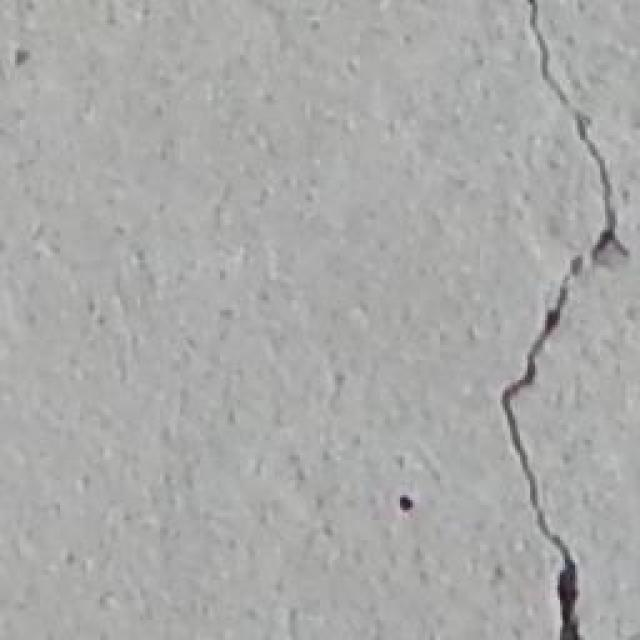concrete-crack: (500, 255, 585, 640), (528, 0, 615, 262)
